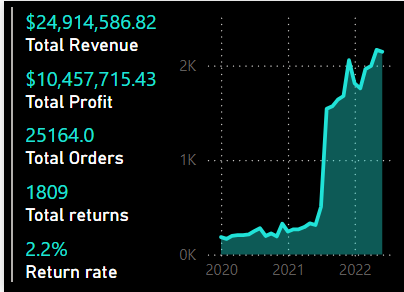

What the dashboard file says about the page in this screenshot:
{"tool":"powerbi","page":{"name":"Custom tooltip","canvas":[320,234],"ordinal":4},"visuals":[{"type":"multiRowCard","fields":{"Values":["Measure Table.Total Revenue","Measure Table.Total Profit","Measure Table.Total Orders","Measure Table.Total returns","Measure Table.Return rate"]},"box":[0,0,134,233],"z":0},{"type":"lineChart","fields":{"Category":["Calendar Lookup.Date Hierarchy.Month"],"Y":["Measure Table.Total Orders"]},"box":[134,0,186,233],"z":1000}]}

Visuals, with their boxes in screenshot pixels (x1, y1, x2, y2), scaled from the page's 320x234 canvas onto the 404x292 screenshot:
multiRowCard - Measure Table.Total Revenue x Measure Table.Total Profit: [0,0,169,291]
lineChart - Calendar Lookup.Date Hierarchy.Month x Measure Table.Total Orders: [169,0,403,291]
